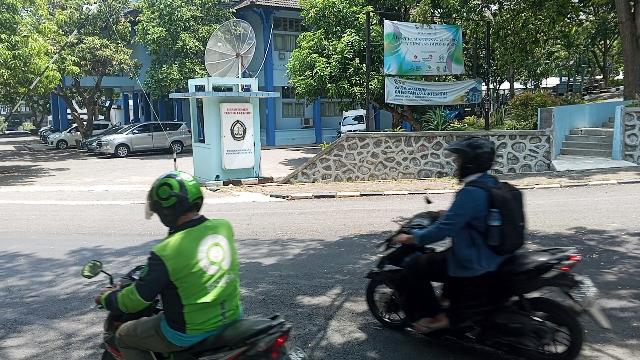helm: (148, 172, 205, 220), (446, 139, 496, 178)
motor: (369, 210, 611, 360), (100, 266, 308, 360)
